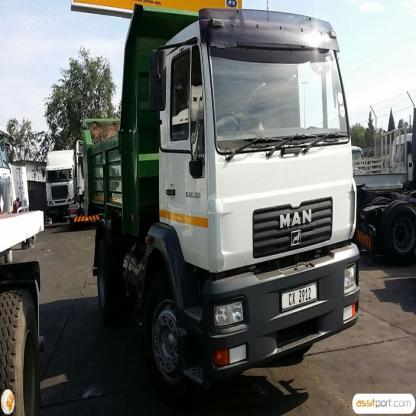dump_truck: (71, 4, 362, 397)
